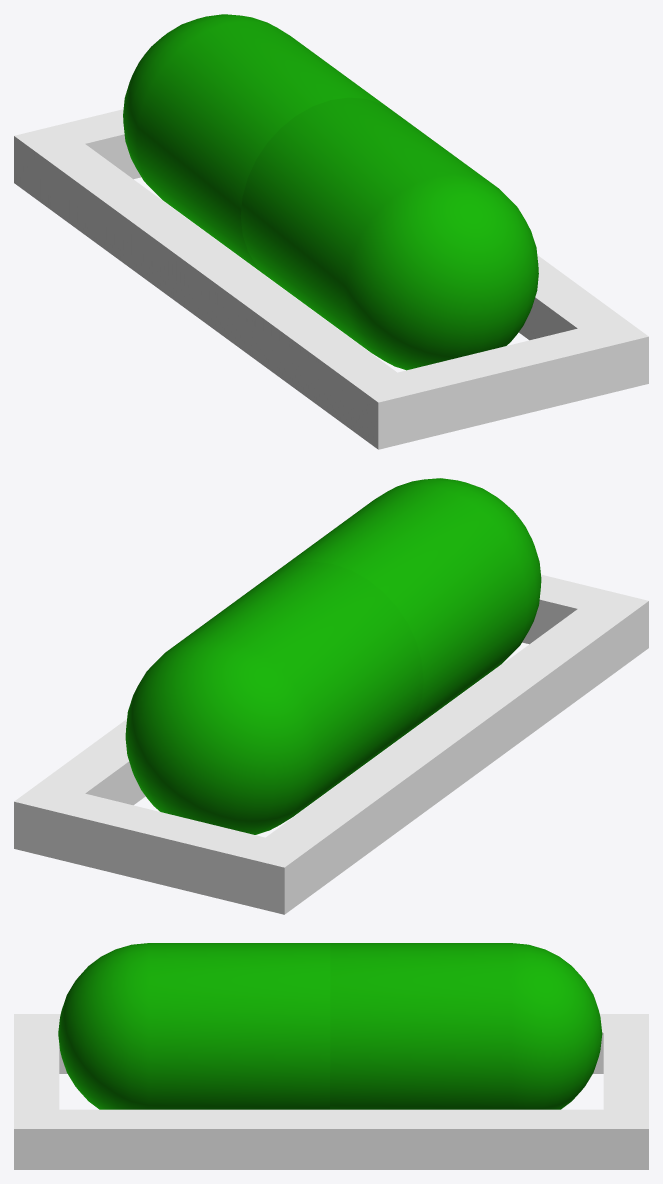
File: StreetFoilageNoTree3_PH.fbx
The picture shows the model from 3 angles, top to bottom: view 1: azimuth 30°, elevation 25°; view 2: azimuth 150°, elevation 25°; view 3: azimuth 270°, elevation 25°; orthographic projection. The views are drawn at different scales.
Visible parts, largest first — view 1: Bush__23_1, Bush__23_, BuildingBorer__11_, BuildingBorer__17_, BuildingBorer__18_, BuildingBorer__12_; view 2: Bush__23_, Bush__23_1, BuildingBorer__11_, BuildingBorer__18_, BuildingBorer__17_, BuildingBorer__12_; view 3: Bush__23_1, Bush__23_, BuildingBorer__12_, BuildingBorer__18_, BuildingBorer__17_, BuildingBorer__11_.
Part boxes in pixels (x1,y1,x2,y2): Bush__23_1: [240, 97, 538, 370]; Bush__23_: [123, 14, 392, 275]; BuildingBorer__11_: [40, 144, 396, 430]; BuildingBorer__17_: [352, 317, 648, 449]; BuildingBorer__18_: [14, 109, 141, 201]; BuildingBorer__12_: [518, 255, 622, 340]; Bush__23_: [125, 561, 423, 834]; Bush__23_1: [272, 478, 541, 739]; BuildingBorer__11_: [266, 609, 622, 895]; BuildingBorer__18_: [14, 782, 310, 914]; BuildingBorer__17_: [522, 574, 648, 666]; BuildingBorer__12_: [40, 719, 145, 805]; Bush__23_1: [58, 943, 330, 1109]; Bush__23_: [330, 943, 602, 1109]; BuildingBorer__12_: [59, 1109, 603, 1169]; BuildingBorer__18_: [603, 1014, 648, 1169]; BuildingBorer__17_: [14, 1014, 59, 1169]; BuildingBorer__11_: [59, 1014, 603, 1073].
Bounding box in the file's own units: 150 × 100 × 350.
